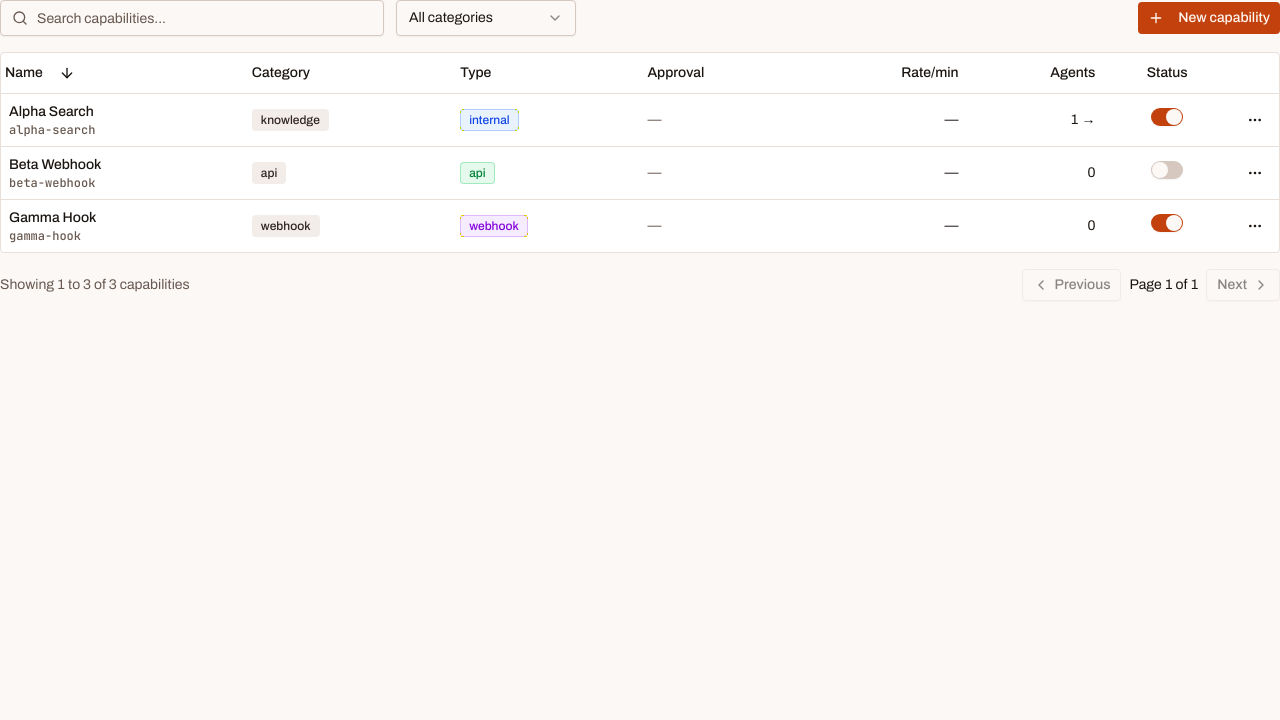
Test: CapabilitiesTable › agent-list popover › opens a popover for a capability only other orgs use, with no list
Step 1. Click the button "1 →" → [1083, 120], box [1070,110,1095,130]
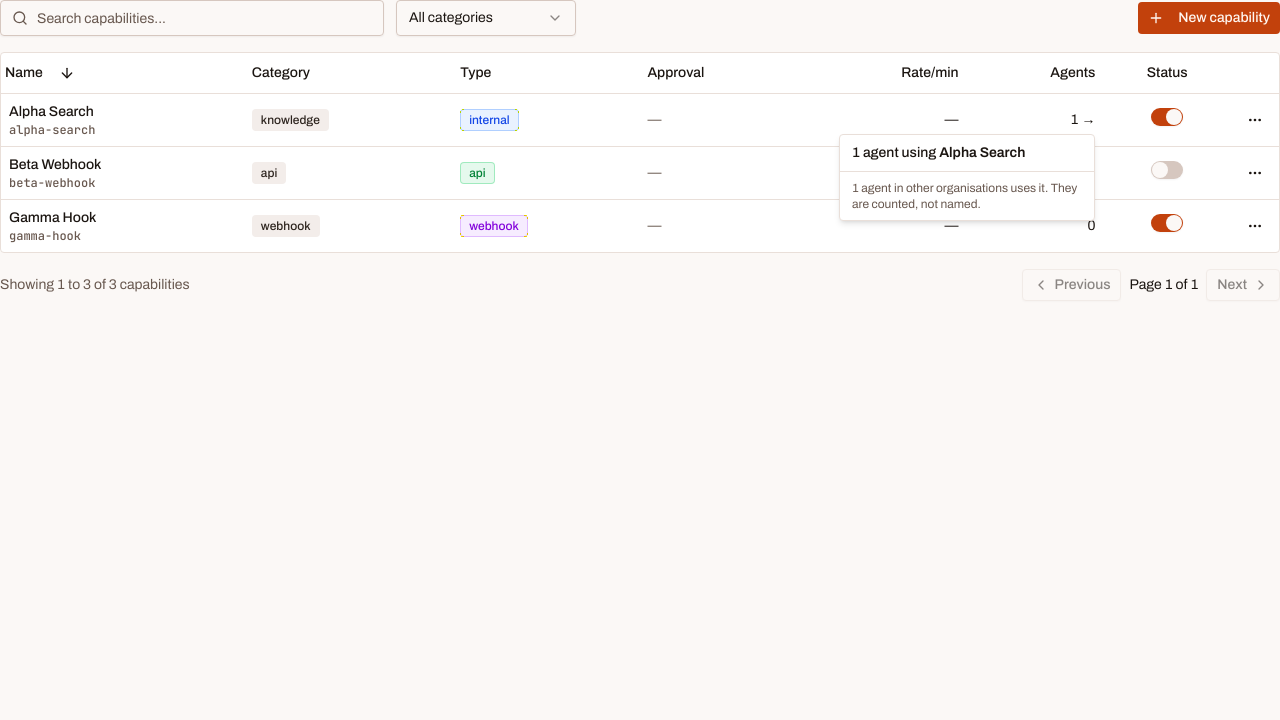
Expected: the text "1 agent in other organisations uses it" is shown, [840,172,1094,220]
